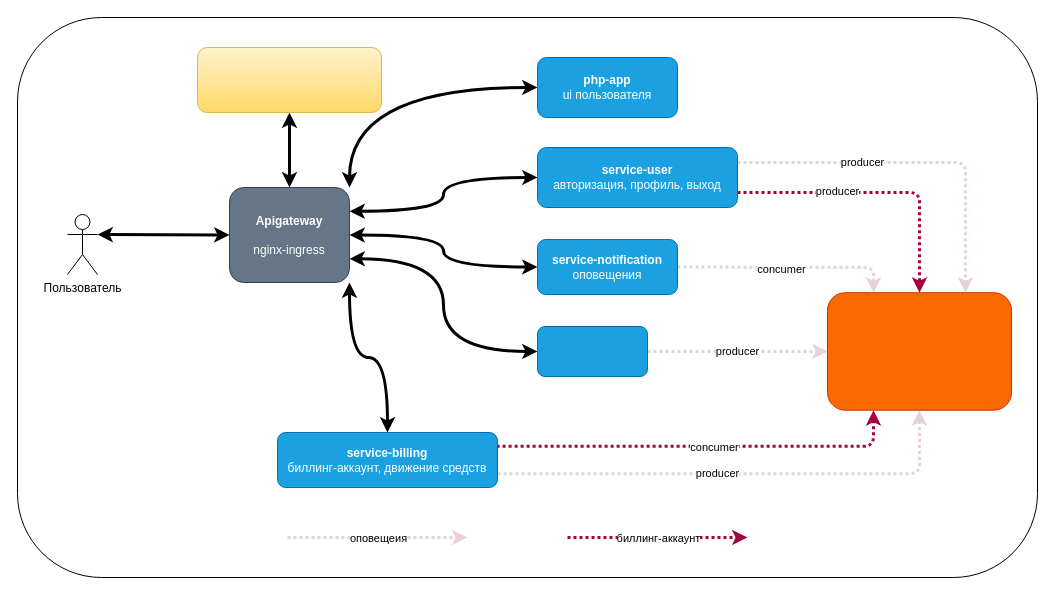
This 1055x595 diagram has some shape labels left out. Each missing label, with the box of its shape:
RabbitMQ брокер сообщений, асинхронное взаимодействие сервисов: (826, 292, 1012, 410)
service-auth а утентификация, валидация: (196, 46, 382, 112)
service-order заказы: (536, 326, 648, 376)
